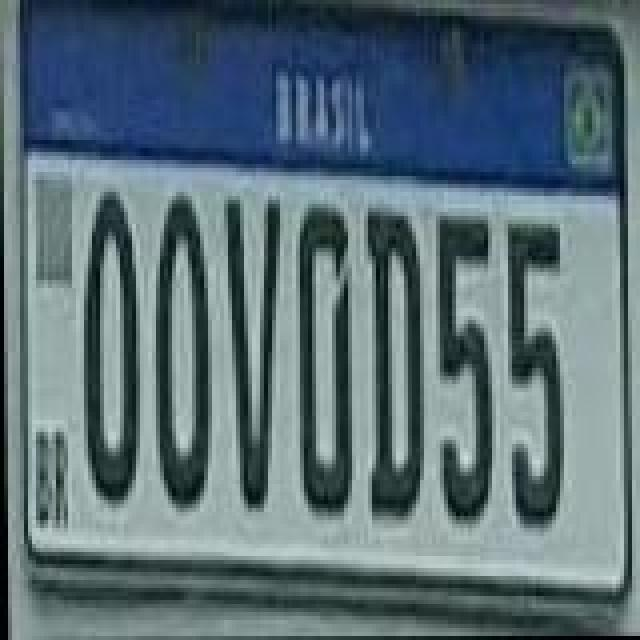5: (500, 212, 564, 532), (432, 208, 496, 524)
D: (292, 202, 356, 522), (364, 206, 428, 526)
O: (148, 186, 212, 514), (76, 184, 140, 504)
V: (220, 190, 284, 510)
